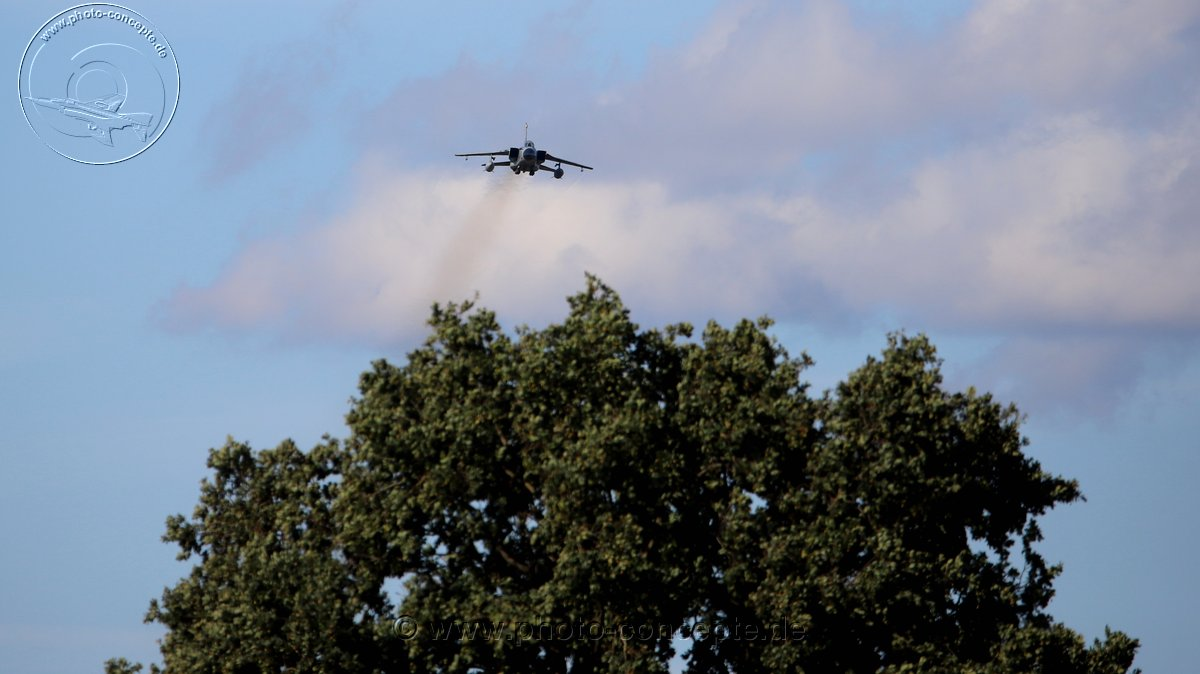Tornado: (454, 121, 595, 181)
